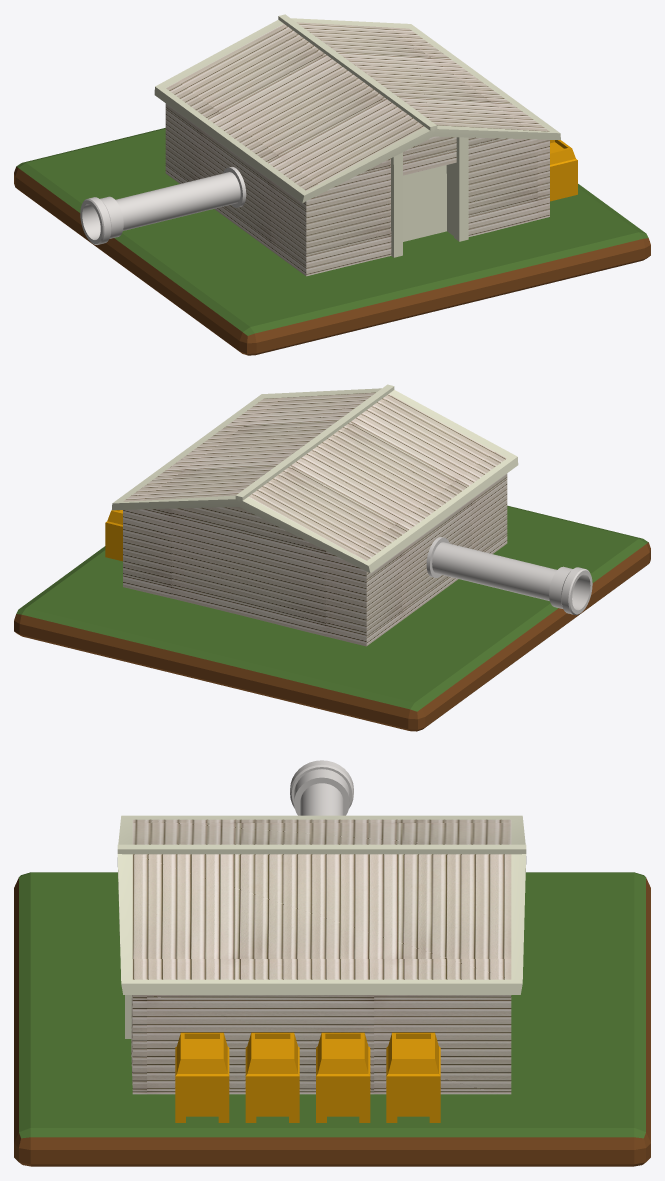
The model's file is Carbon_Storage.fbx.
3 views of the same model, one above another, from view 1: azimuth 30°, elevation 25°; view 2: azimuth 150°, elevation 25°; view 3: azimuth 270°, elevation 25° (orthographic). The views are drawn at different scales.
Visible parts, largest first — view 1: Cube, WindTurbine_Lg.006, Cube.001; view 2: Cube, WindTurbine_Lg.006, Cube.001; view 3: Cube, WindTurbine_Lg.006, Cube.001.
Part boxes in pixels (x1,y1,x2,y2): Cube: [80, 14, 560, 276]; WindTurbine_Lg.006: [14, 128, 650, 355]; Cube.001: [550, 140, 577, 201]; Cube: [112, 384, 592, 646]; WindTurbine_Lg.006: [14, 505, 650, 731]; Cube.001: [105, 510, 122, 561]; Cube: [117, 760, 526, 1094]; WindTurbine_Lg.006: [14, 872, 650, 1166]; Cube.001: [175, 1032, 440, 1122].
Bounding box in the file's own units: 171 × 54.33 × 156.
